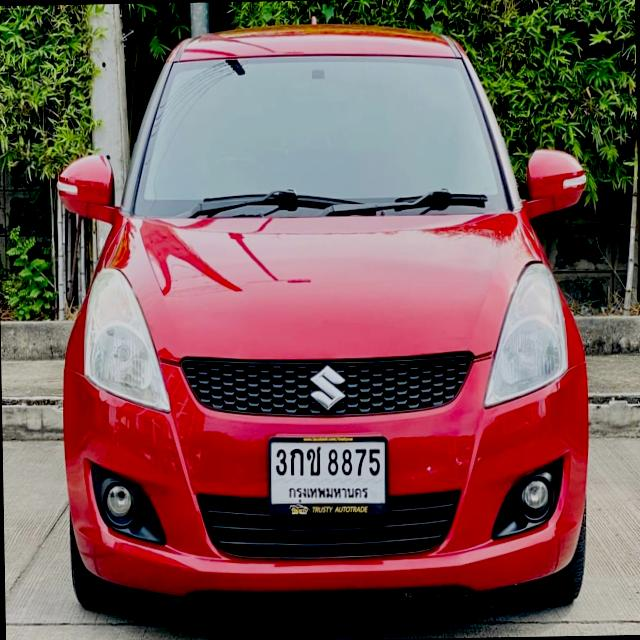license_plate: (265, 432, 390, 519)
